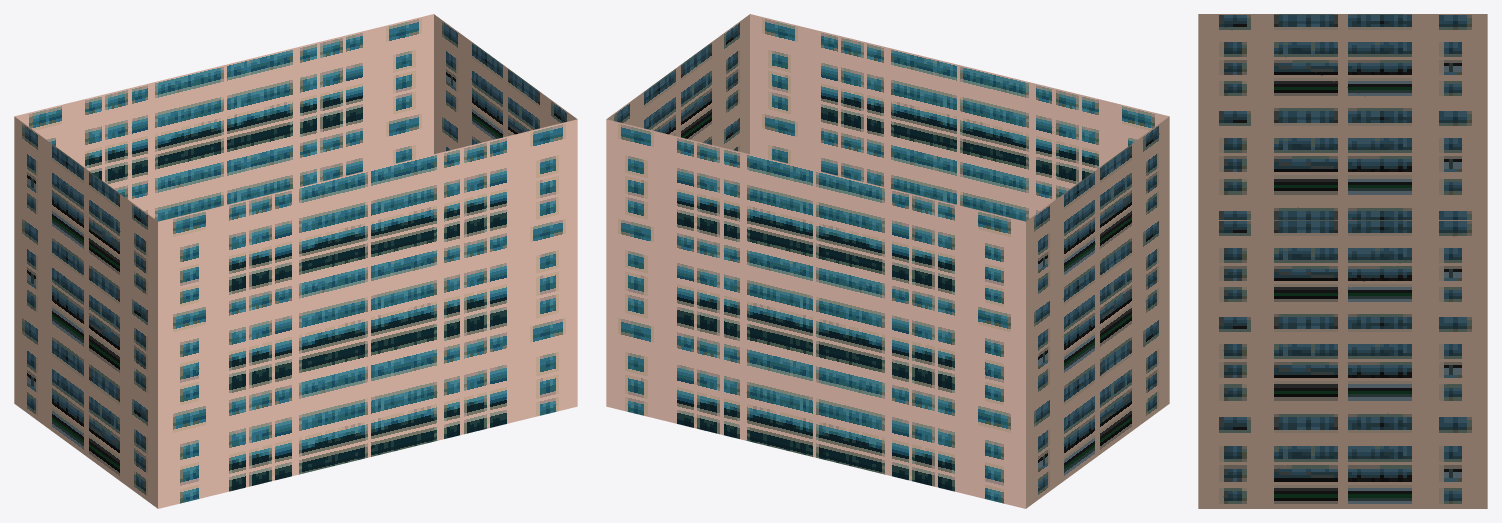
The picture shows the model from 3 angles, left to right: view 1: azimuth 30°, elevation 25°; view 2: azimuth 150°, elevation 25°; view 3: azimuth 270°, elevation 25°; orthographic projection.
Visible parts, largest first — view 1: obj-132; view 2: obj-132; view 3: obj-132.
Part boxes in pixels (x1=…): obj-132: x1=14, y1=14, x2=577, y2=508; obj-132: x1=606, y1=14, x2=1169, y2=508; obj-132: x1=1198, y1=14, x2=1487, y2=508.
Bounding box in the file's own units: 5.96 × 3.9 × 3.54.
Materials: 1 (1 with a texture image).
